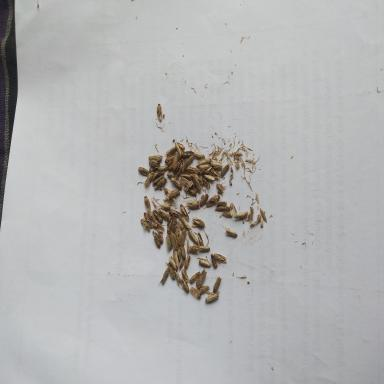pbw: (175, 227, 186, 246), (196, 269, 207, 287), (158, 268, 169, 286), (165, 261, 175, 279), (206, 194, 220, 206), (178, 278, 189, 293), (216, 179, 227, 194), (180, 203, 189, 221), (192, 174, 201, 192), (143, 212, 153, 228), (154, 177, 167, 189), (188, 230, 199, 244), (205, 292, 219, 303), (144, 172, 153, 188), (170, 231, 178, 249), (213, 276, 222, 292), (190, 286, 201, 299), (191, 216, 205, 226), (220, 163, 230, 177), (168, 255, 177, 270), (196, 157, 211, 166), (158, 207, 169, 219), (152, 210, 163, 222), (214, 253, 227, 263), (199, 193, 209, 206), (178, 243, 186, 259), (164, 234, 172, 250), (176, 162, 184, 178), (225, 228, 237, 238), (170, 178, 182, 188), (190, 271, 200, 283), (164, 153, 176, 163), (184, 186, 196, 196), (144, 195, 151, 212), (152, 171, 165, 180), (141, 219, 150, 232), (172, 249, 178, 268), (173, 160, 181, 174), (198, 259, 212, 267), (147, 212, 158, 222), (153, 222, 164, 232), (165, 146, 176, 156), (194, 173, 203, 185), (210, 253, 217, 268), (181, 269, 189, 282), (202, 176, 210, 189), (172, 153, 178, 170), (166, 217, 172, 234), (210, 168, 220, 178), (168, 189, 179, 198), (260, 208, 267, 222), (234, 212, 248, 219), (187, 200, 199, 208), (182, 217, 190, 229), (157, 231, 164, 244), (184, 255, 191, 268), (177, 247, 182, 265), (157, 104, 162, 122), (154, 175, 164, 184), (199, 285, 209, 294), (154, 233, 160, 248), (148, 154, 163, 160), (176, 218, 184, 229), (169, 209, 180, 217), (149, 164, 160, 172), (138, 167, 149, 175), (182, 158, 188, 172), (250, 219, 262, 226), (197, 232, 203, 246), (193, 151, 205, 158), (171, 216, 176, 232), (210, 162, 223, 168), (187, 155, 194, 166), (198, 245, 210, 251), (198, 164, 210, 170), (182, 151, 194, 157), (148, 160, 160, 166), (177, 142, 185, 151), (175, 225, 180, 239), (248, 207, 253, 221), (189, 245, 199, 252), (186, 166, 197, 172), (204, 174, 215, 180), (214, 206, 230, 210), (186, 238, 190, 253), (174, 270, 180, 280), (180, 174, 192, 179), (158, 165, 168, 171), (222, 211, 232, 217), (181, 177, 189, 184), (167, 157, 174, 165), (216, 201, 227, 206), (176, 144, 181, 155), (160, 204, 170, 209), (179, 259, 184, 269), (168, 162, 174, 170), (166, 172, 174, 178), (197, 168, 204, 174), (203, 169, 210, 174), (184, 172, 192, 176)
